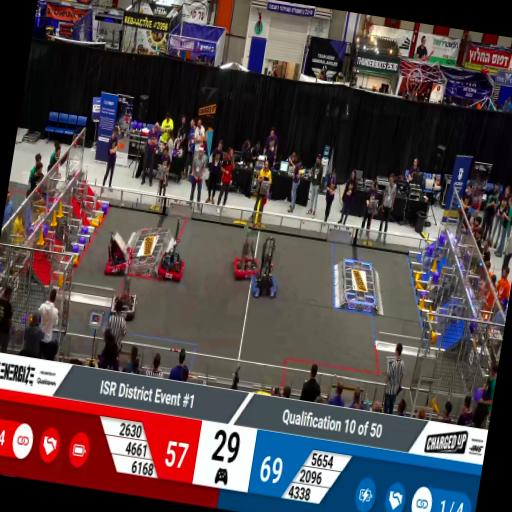robot: (106, 276, 142, 324), (101, 231, 135, 279), (154, 240, 188, 286), (228, 244, 262, 284), (250, 265, 282, 301)
